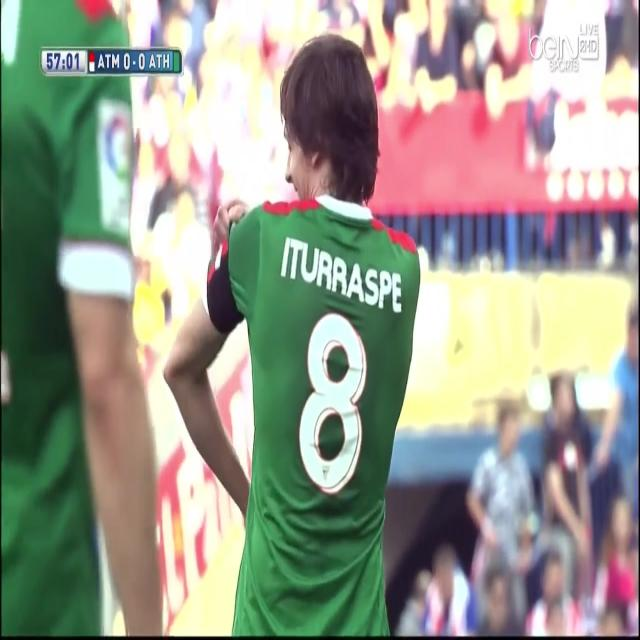Player: (163, 35, 425, 635), (2, 5, 164, 640)
